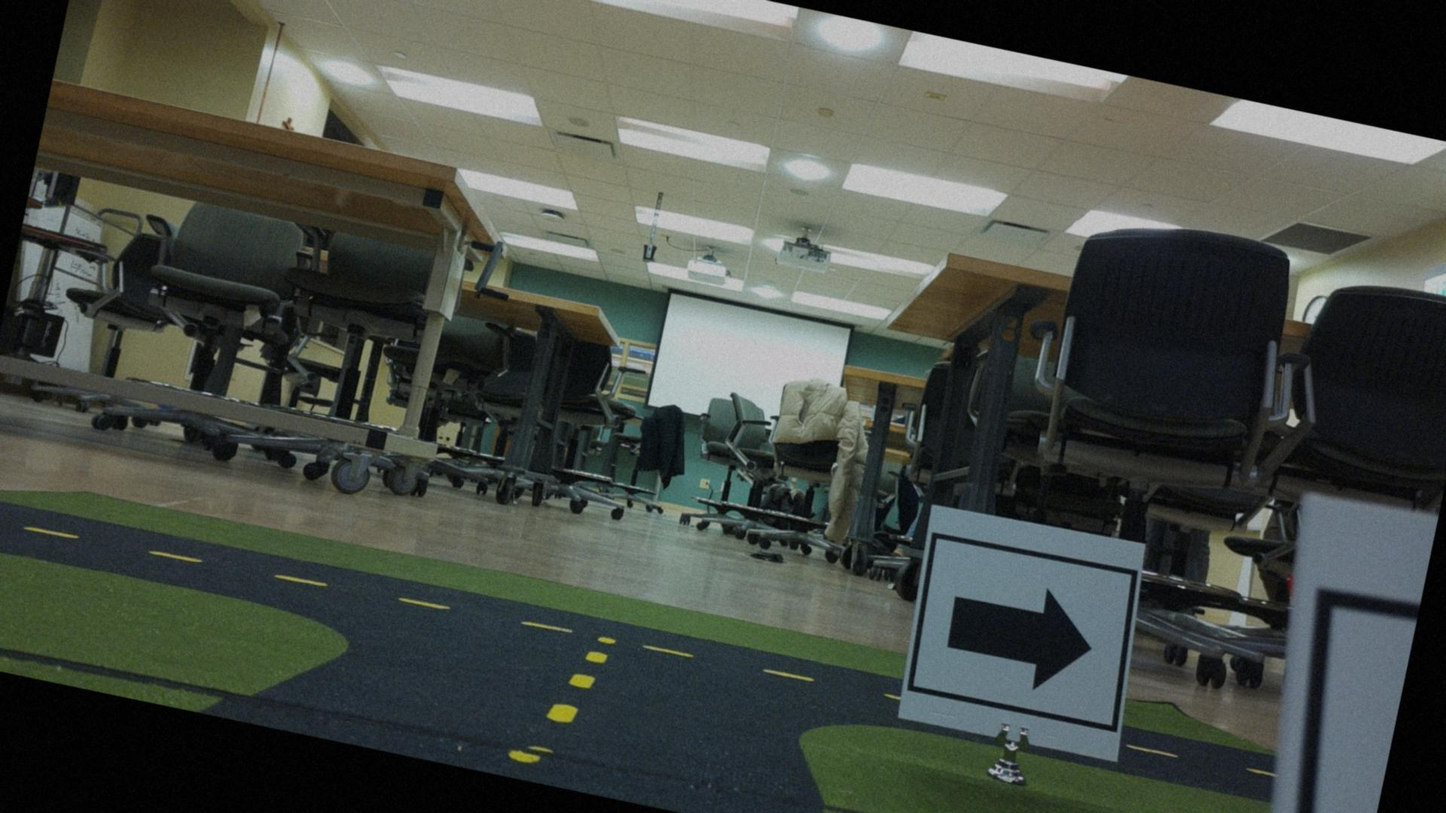turnleft: (895, 507, 1149, 767)
yellowline: (544, 625, 614, 734)
